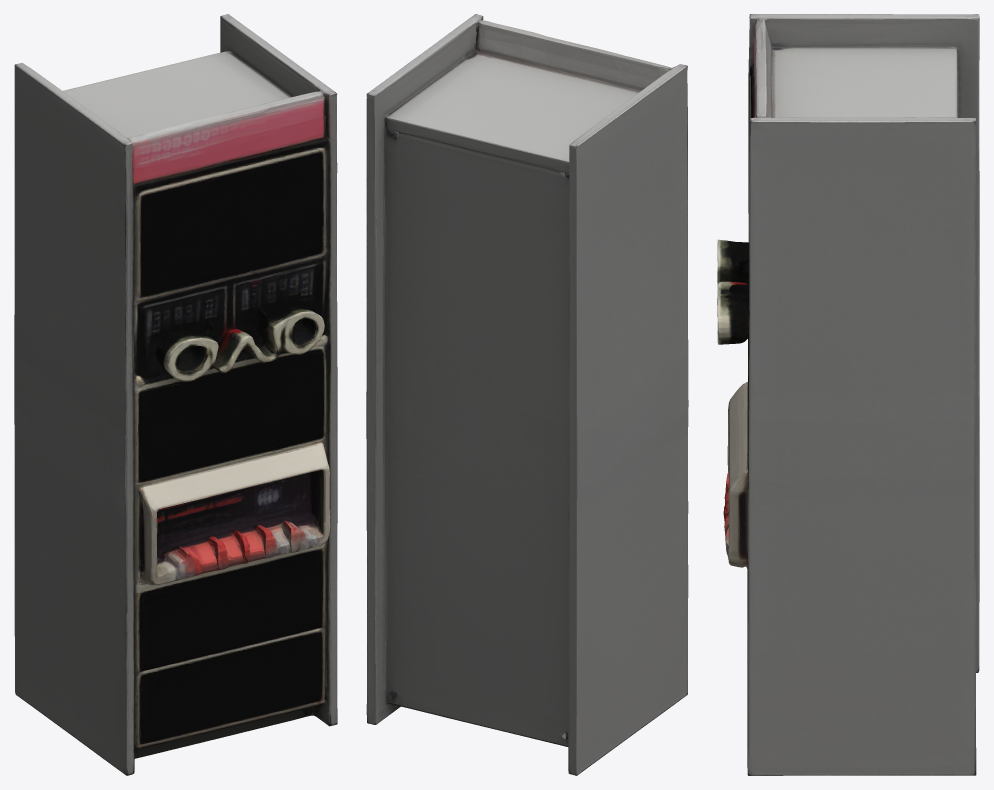
File: mini_computer.glb
The picture shows the model from 3 angles, left to right: view 1: azimuth 30°, elevation 25°; view 2: azimuth 150°, elevation 25°; view 3: azimuth 270°, elevation 25°; orthographic projection. The views are drawn at different scales.
Visible parts, largest first — view 1: world; view 2: world; view 3: world.
Part boxes in pixels (x1,y1,x2,y2): world: (14,14,337,775); world: (366,14,688,775); world: (717,14,979,775).
Bounding box in the file's own units: 0.3538 × 1 × 0.3631.
1 material, 1 textured.
